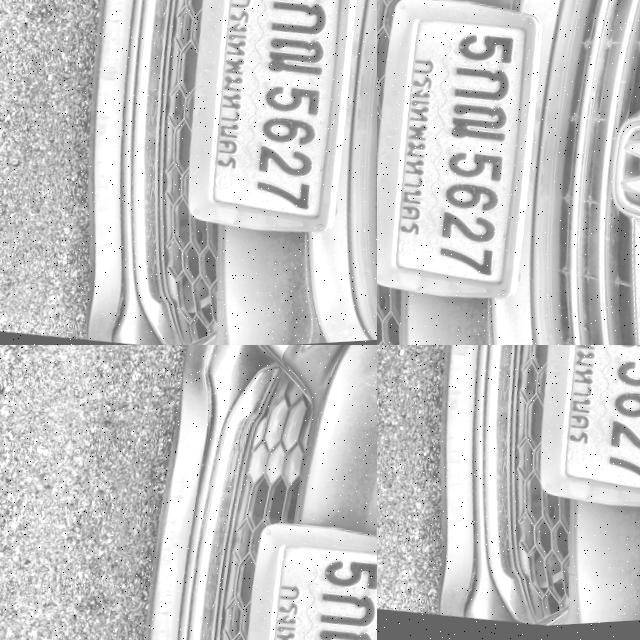license-plate: (519, 345, 640, 526)
